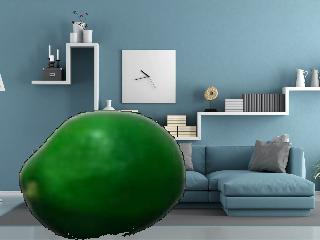lime: (18, 110, 186, 240)
